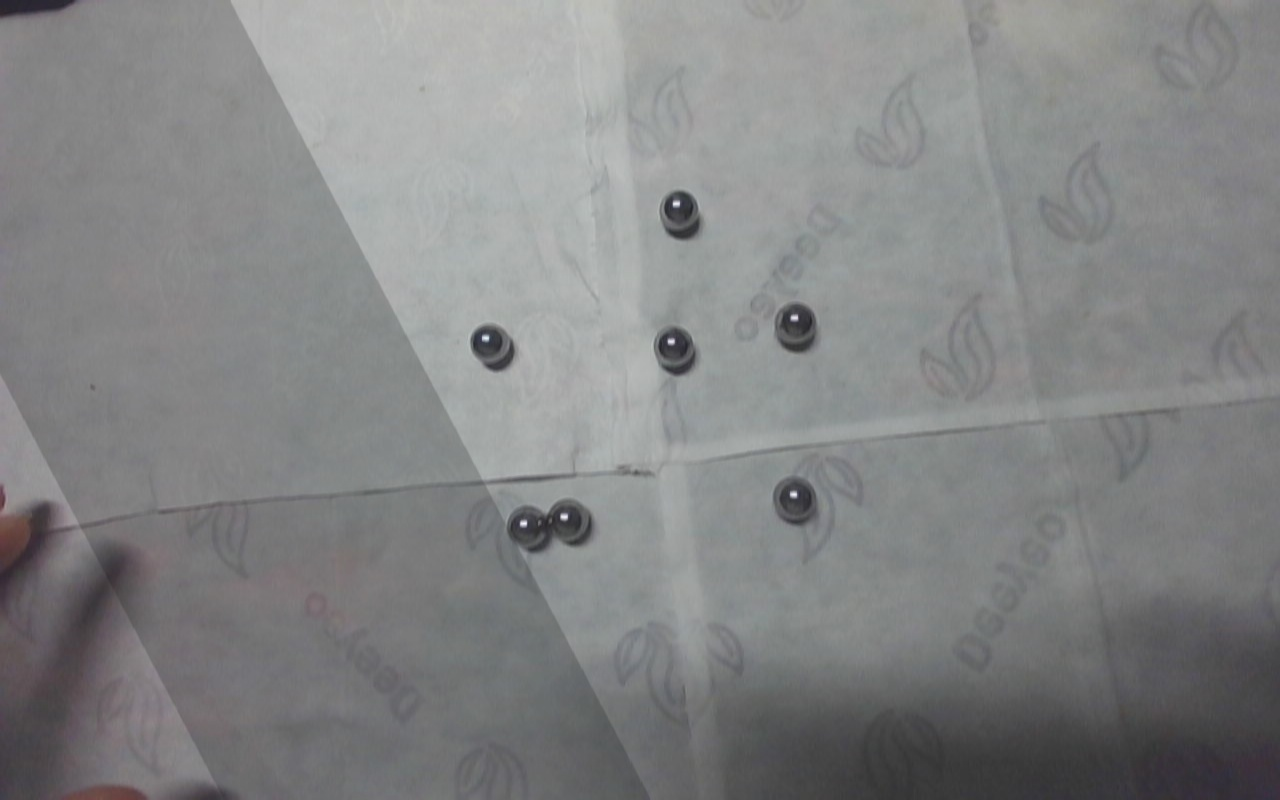ball: (772, 474, 819, 526), (651, 322, 699, 370), (774, 300, 820, 350), (657, 185, 702, 236), (506, 503, 551, 552), (548, 497, 594, 544), (468, 321, 512, 368)
